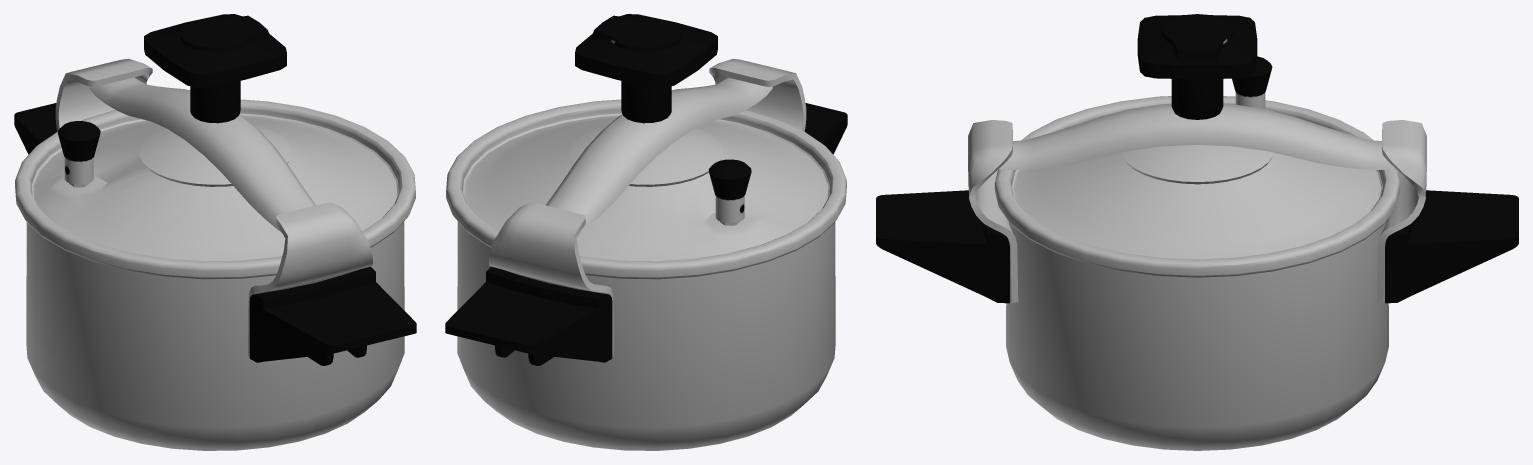
The model's file is Cocotte_lr.fbx.
The picture shows the model from 3 angles, left to right: view 1: azimuth 30°, elevation 25°; view 2: azimuth 150°, elevation 25°; view 3: azimuth 270°, elevation 25°; orthographic projection.
Parts seen in each view (by area): view 1: Body_lr, Lid_lr, Handles_lr, Lock_lr, HandleBases_lr, ScrewHandle_lr, ValveCap_lr; view 2: Body_lr, Lid_lr, Handles_lr, Lock_lr, HandleBases_lr, ScrewHandle_lr, ValveCap_lr; view 3: Body_lr, Lid_lr, Handles_lr, Lock_lr, ScrewHandle_lr, HandleBases_lr, ValveCap_lr.
Part boxes in pixels (x1,y1,x2,y2): Body_lr: (26,217,407,450); Lid_lr: (15,99,415,277); Handles_lr: (14,103,416,365); Lock_lr: (89,77,315,232); HandleBases_lr: (55,58,372,357); ScrewHandle_lr: (144,14,286,123); ValveCap_lr: (57,121,100,184); Body_lr: (454,217,835,450); Lid_lr: (446,99,846,277); Handles_lr: (445,103,847,365); Lock_lr: (546,77,772,232); HandleBases_lr: (489,58,806,357); ScrewHandle_lr: (575,14,717,123); ValveCap_lr: (708,159,751,223); Body_lr: (1006,222,1388,450); Lid_lr: (994,96,1400,275); Handles_lr: (876,190,1518,303); Lock_lr: (998,103,1396,169); ScrewHandle_lr: (1137,14,1257,119); HandleBases_lr: (968,120,1426,302); ValveCap_lr: (1232,56,1272,108).
Bounding box in the file's own units: 23.67 × 22.92 × 37.52.
